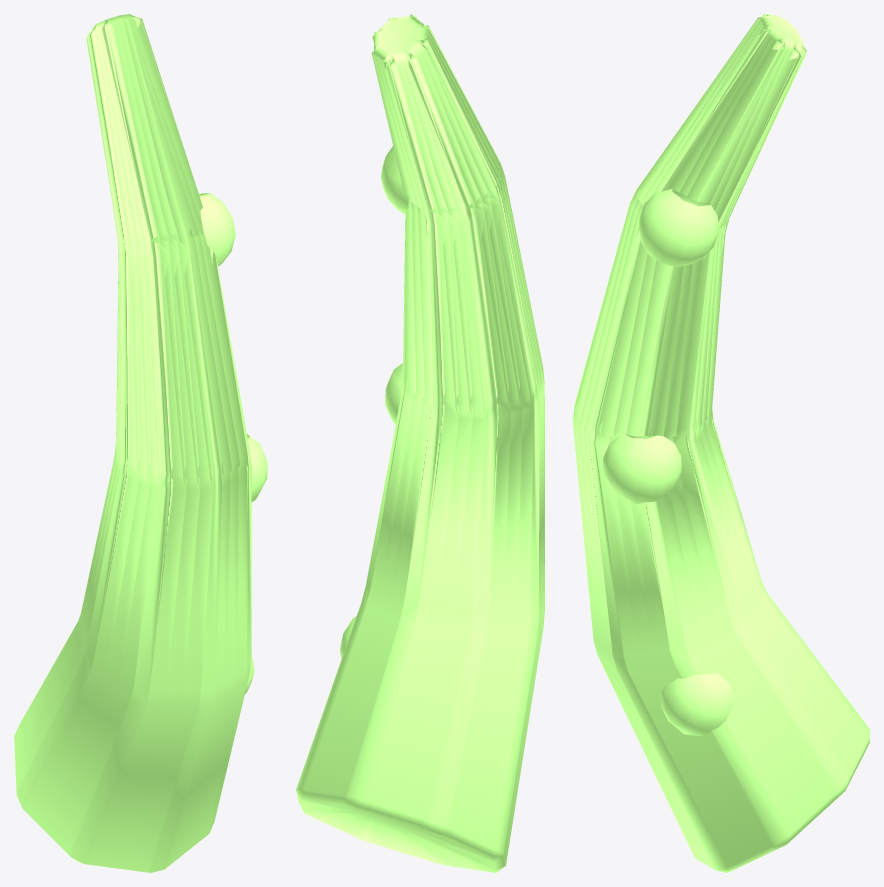
Rendered from TentaculoParasitario.fbx.
3 renders of one model, left to right at view 1: azimuth 30°, elevation 25°; view 2: azimuth 150°, elevation 25°; view 3: azimuth 270°, elevation 25°, orthographic. The views are drawn at different scales.
Parts seen in each view (by area): view 1: TentaculoParasitario; view 2: TentaculoParasitario; view 3: TentaculoParasitario.
Part boxes in pixels (left/top/right/bottom): TentaculoParasitario: left=14, top=14, right=267, bottom=872; TentaculoParasitario: left=296, top=14, right=544, bottom=872; TentaculoParasitario: left=573, top=14, right=869, bottom=872.
Bounding box in the file's own units: 77.12 × 324 × 104.
